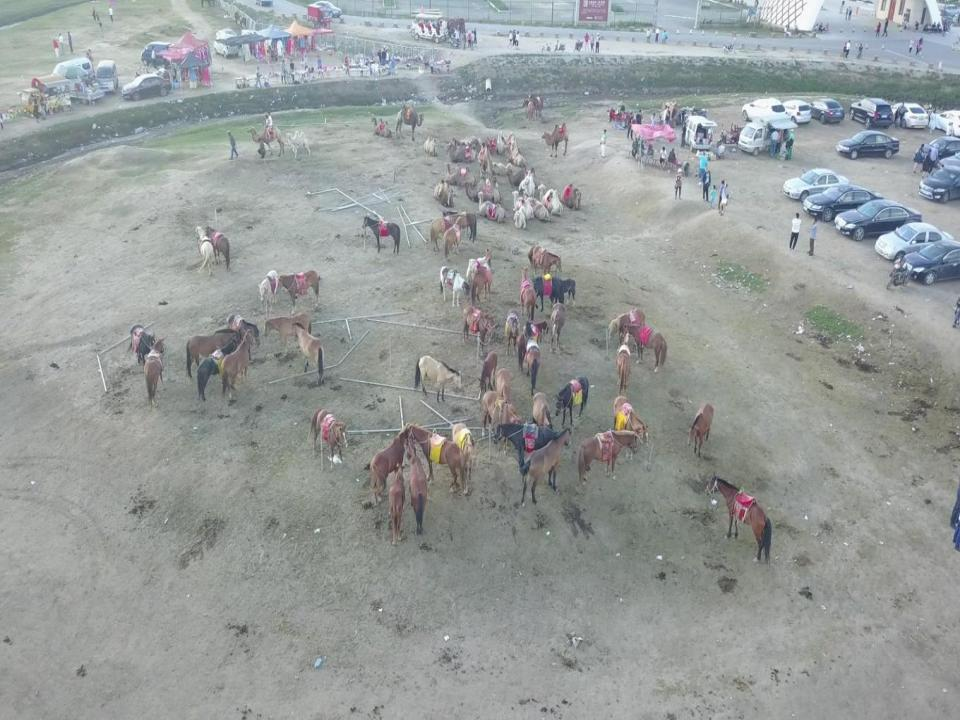car: (832, 200, 924, 237), (876, 223, 952, 264), (800, 184, 880, 220), (784, 169, 848, 201), (836, 131, 900, 156), (847, 97, 893, 130), (121, 71, 173, 99), (743, 100, 790, 127), (139, 39, 181, 67), (805, 99, 847, 126), (886, 103, 927, 130), (778, 98, 815, 123), (308, 0, 341, 16)
truck: (738, 113, 793, 154)
van: (684, 115, 717, 153), (55, 60, 95, 87), (215, 29, 241, 58), (95, 63, 119, 91)
